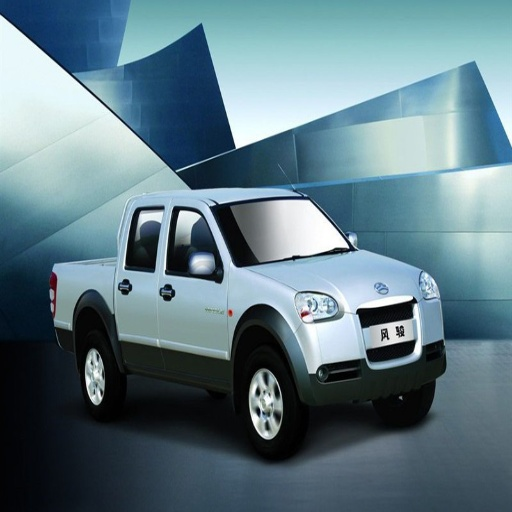back_right_door: (114, 198, 171, 370)
front_bumper: (296, 279, 440, 401)
front_right_door: (157, 201, 228, 378)
front_right_light: (296, 292, 346, 321)
trunk: (54, 260, 113, 333)
